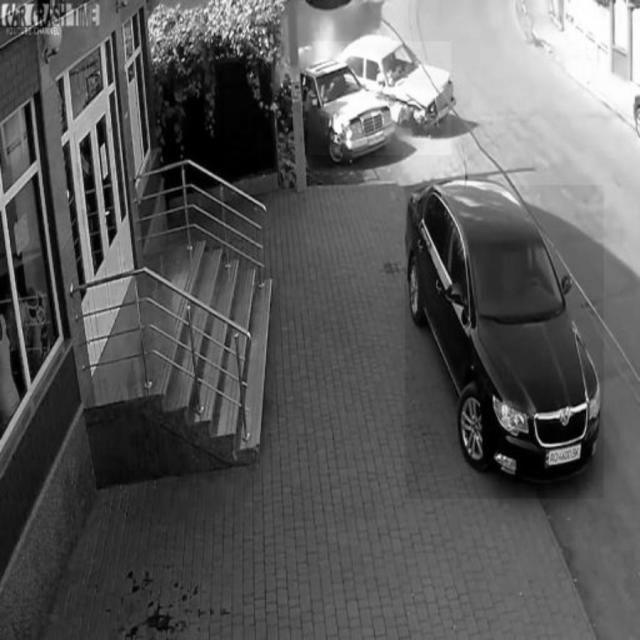accident: (307, 42, 451, 155)
vehicle: (405, 185, 603, 499)
